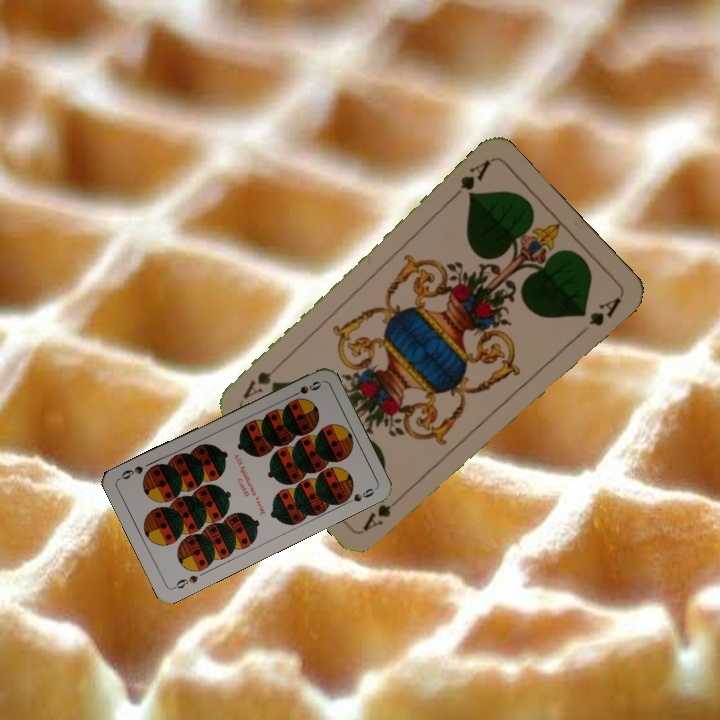GA: (359, 488, 409, 534), (447, 155, 493, 203)
S9: (285, 377, 324, 401), (169, 571, 200, 592)
